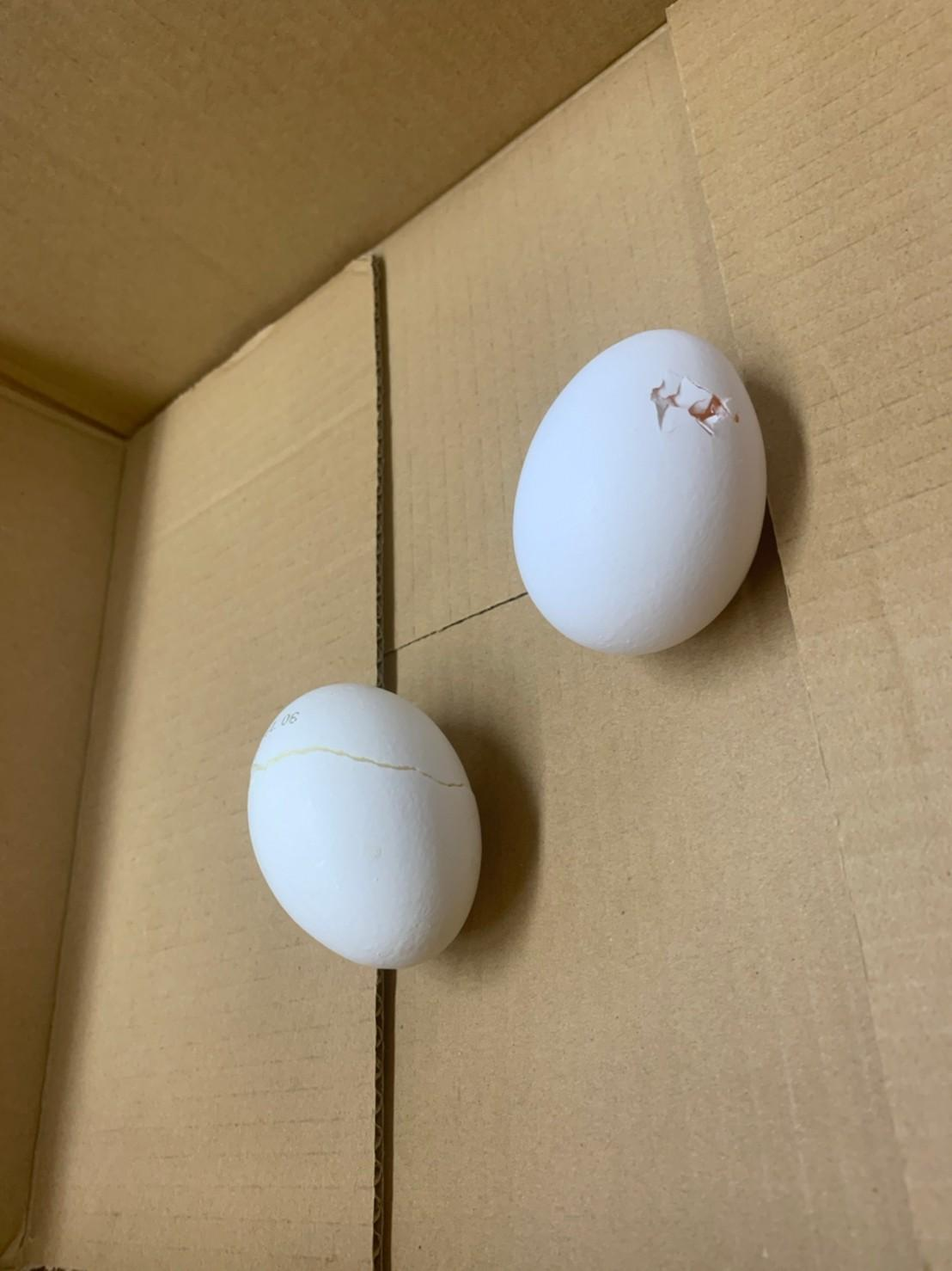egg: (510, 316, 770, 669), (241, 681, 487, 975)
